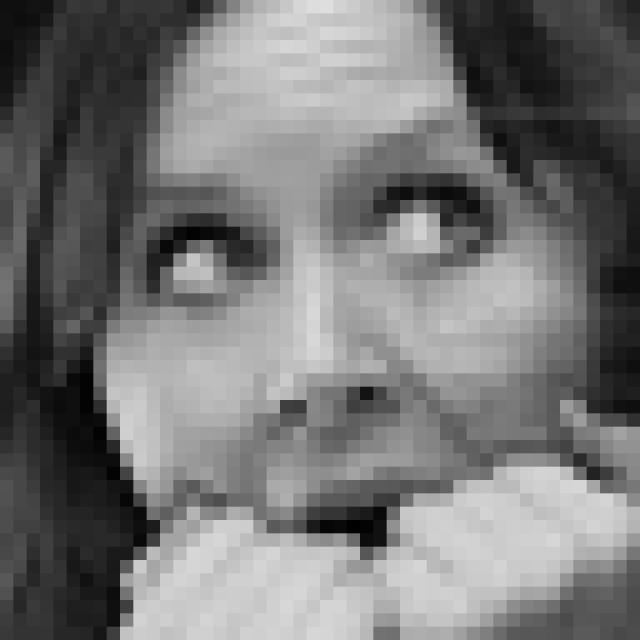fear: (133, 123, 552, 579)
